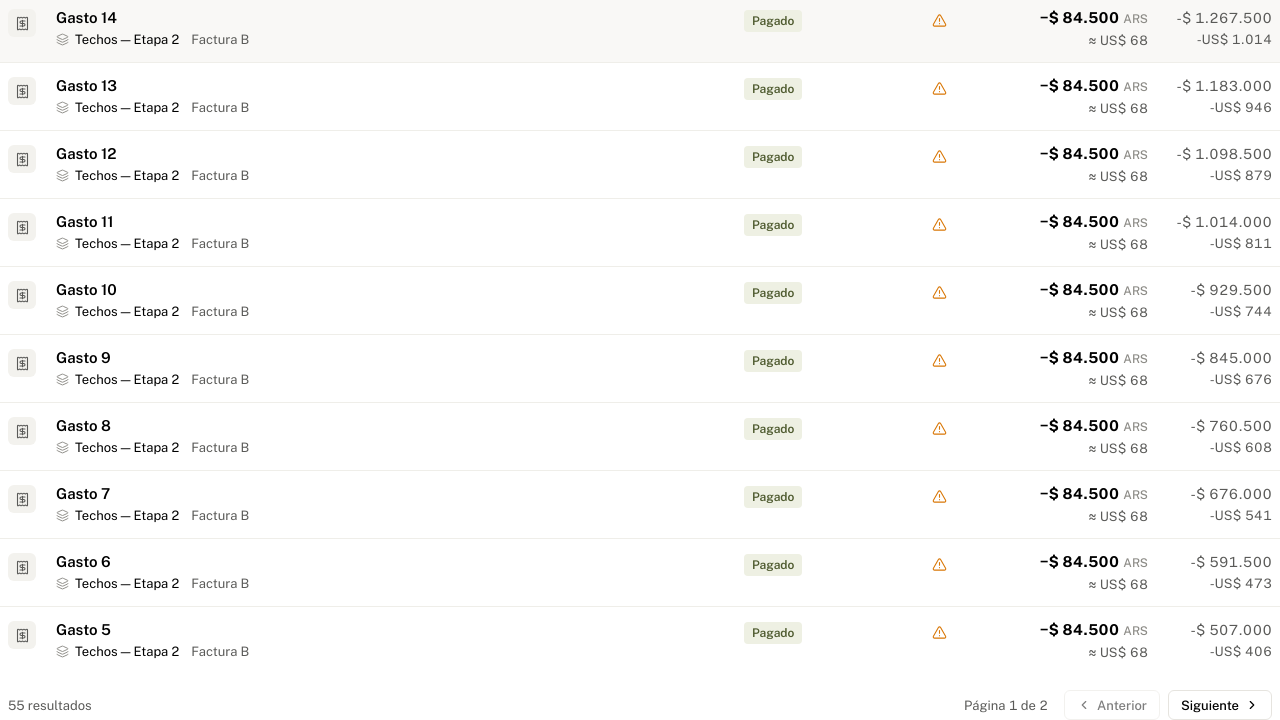
it: LibroDeObra › pagina de a MOVIMIENTOS_POR_PAGINA y cuenta todos los resultados
The width and height of the screenshot is (1280, 720).
(page scrolled)
Click the button "Siguiente" at (1220, 705), box [1168,690,1272,719]
(page scrolled)
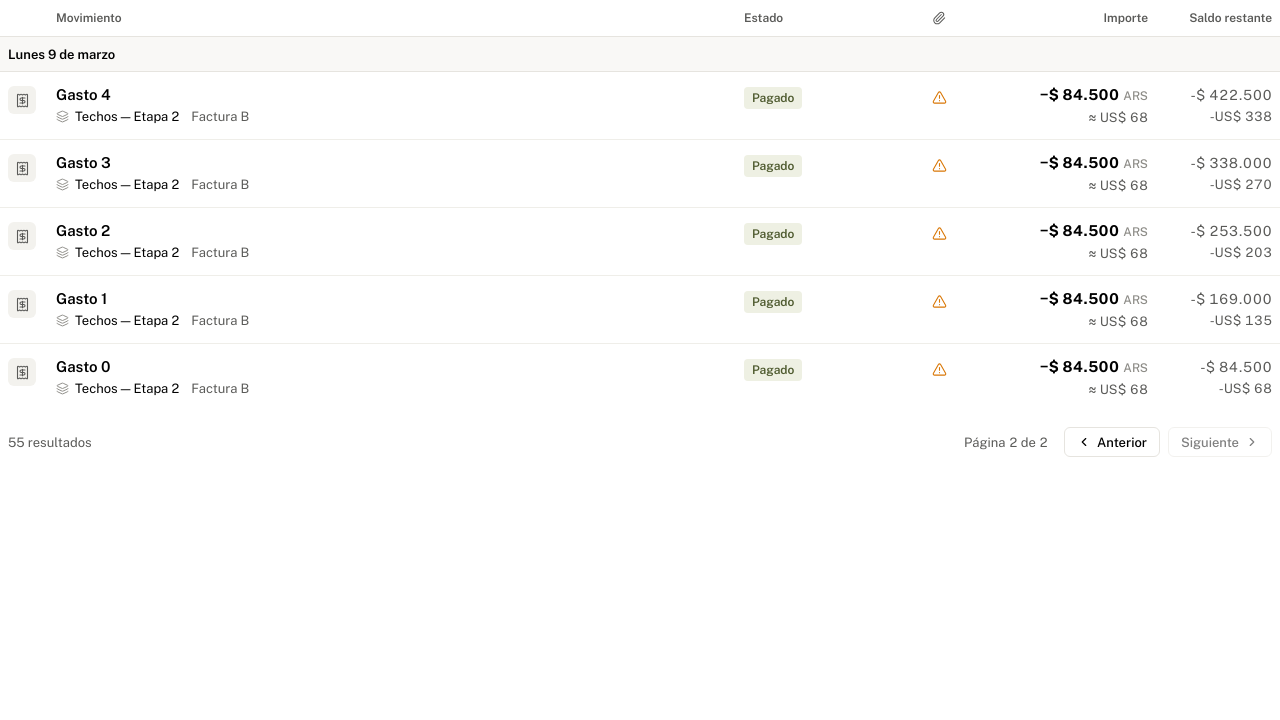
Now the number of elements with class "libro__fila" is 5, box [0,72,1279,140]; [0,140,1279,208]; [0,208,1279,276]; [0,276,1279,344]; [8,358,1272,397]
Now the button "Siguiente" is disabled, box [1168,427,1272,457]
